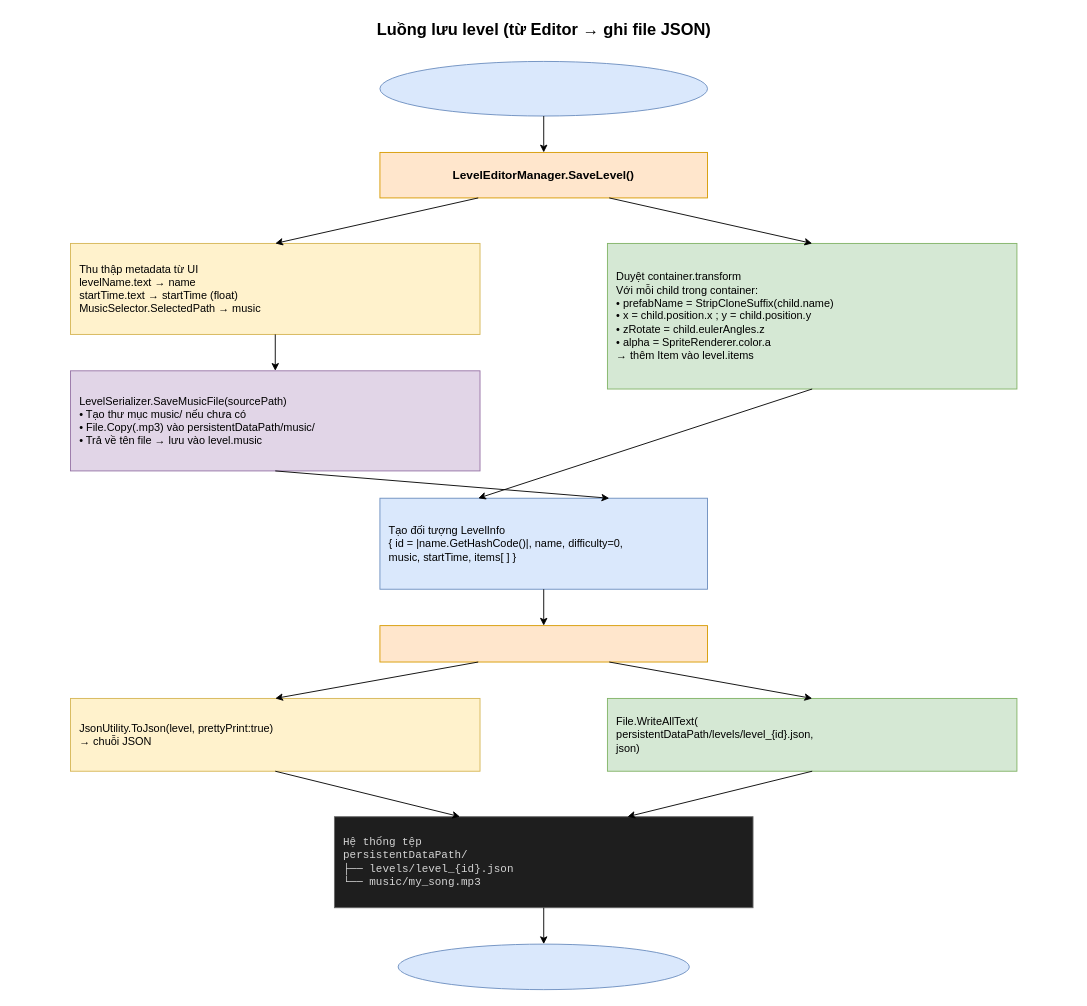
The diagram is 1087 pixels wide and 1006 high, and some of its shapes have lost their labels. The shapes that lost their labels are listed below. From the top down, each one's centre as x and y in pixels, then its label:
the point at 543,88: Người chơi nhấn nút "Lưu" trong Level Editor
the point at 543,643: LevelSerializer.Save(level)
the point at 543,966: Hoàn tất — màn đã được lưu
